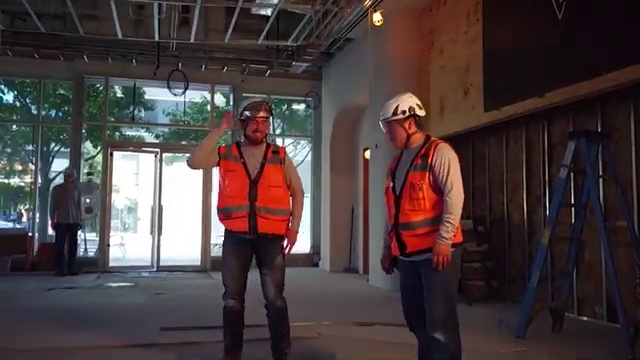helmet: (373, 81, 440, 128), (228, 93, 282, 122)
jacket: (377, 138, 477, 255), (217, 141, 299, 253)
